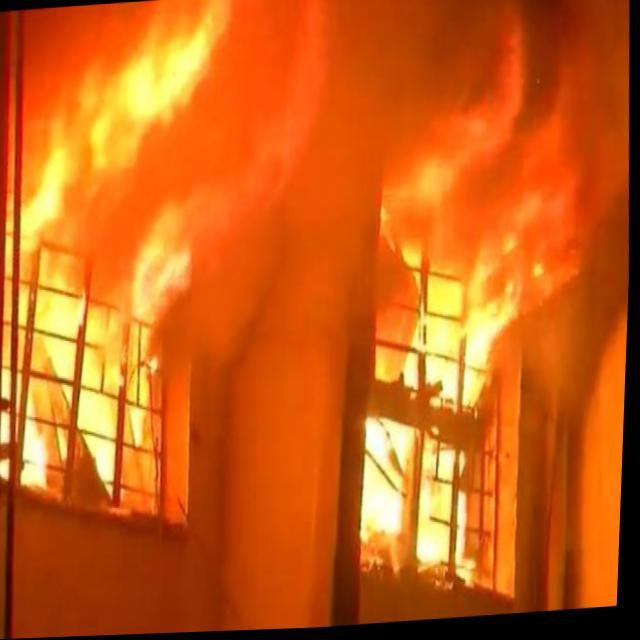fire: (0, 0, 241, 518), (344, 111, 587, 587)
